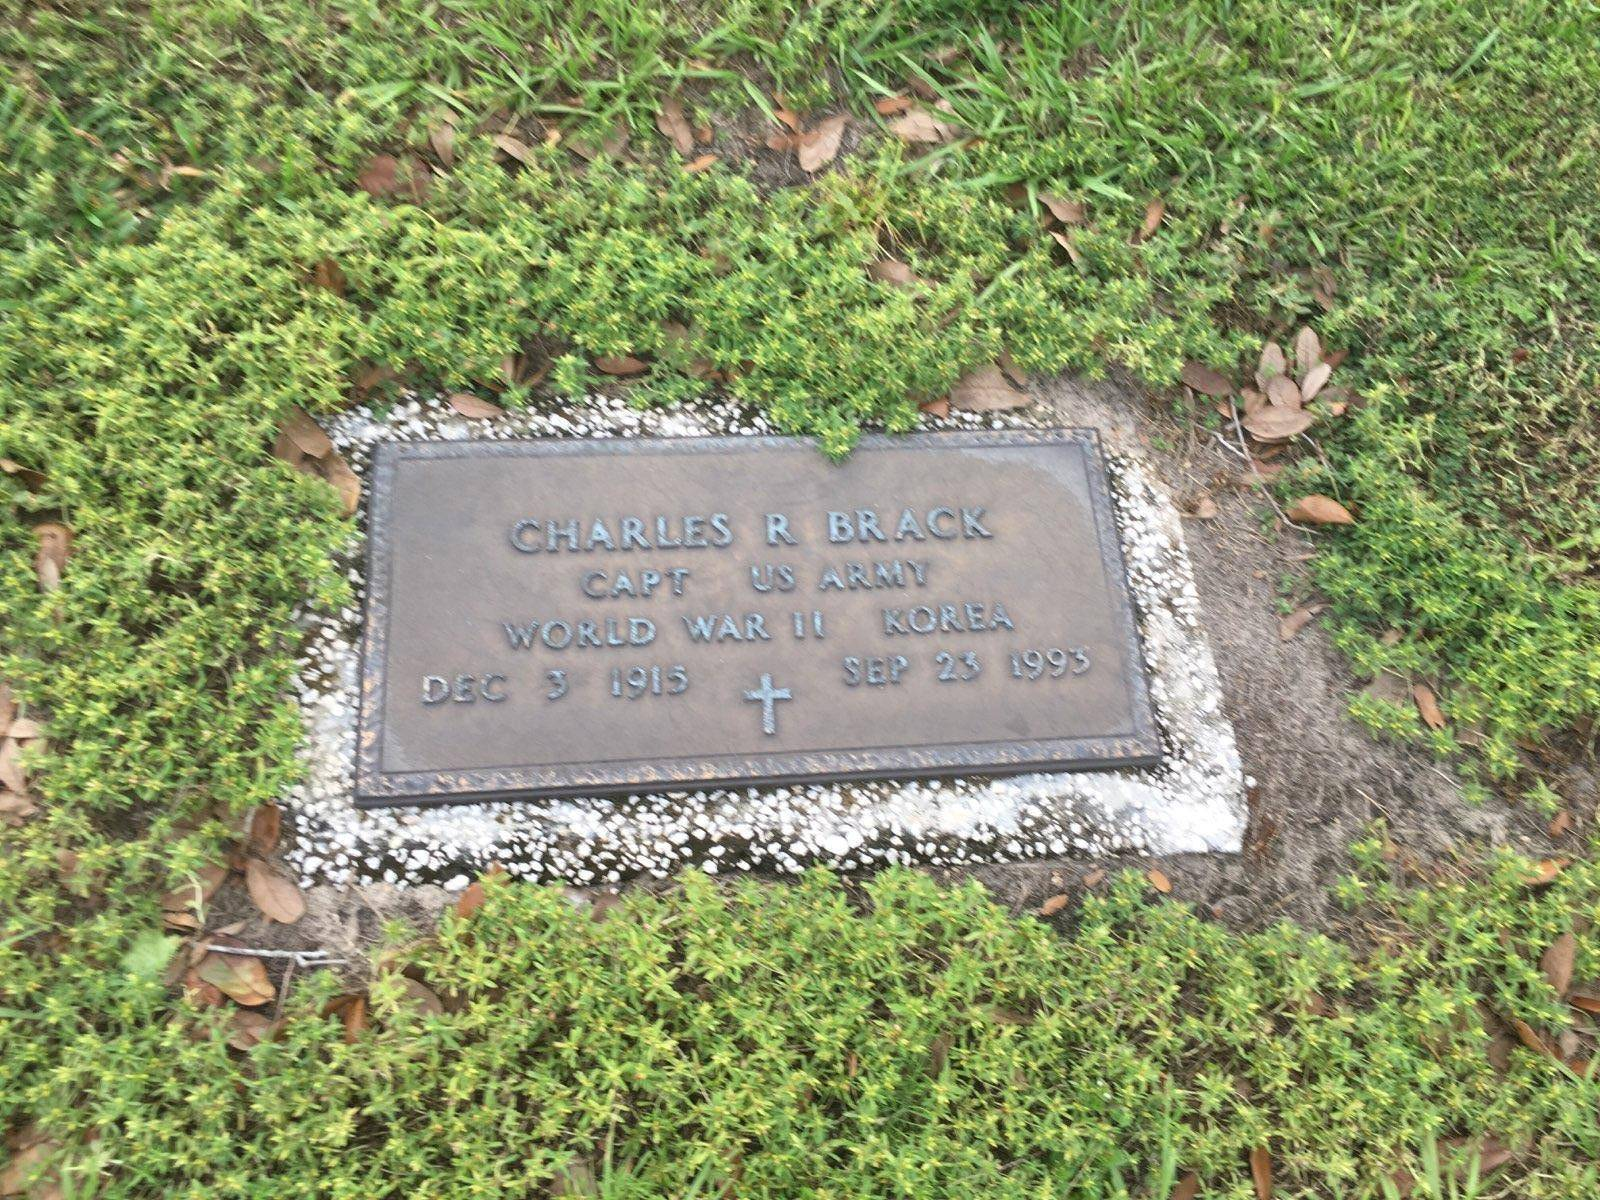flat: (333, 403, 1259, 872)
